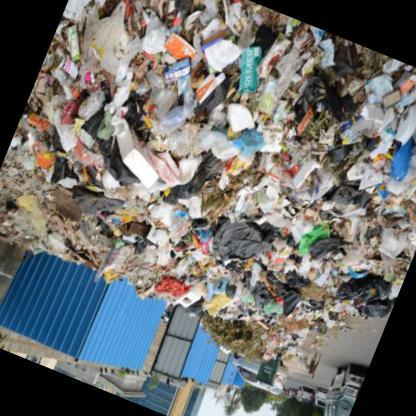Garbage: (2, 0, 415, 316), (0, 2, 376, 349), (149, 8, 415, 346), (11, 0, 248, 211)
